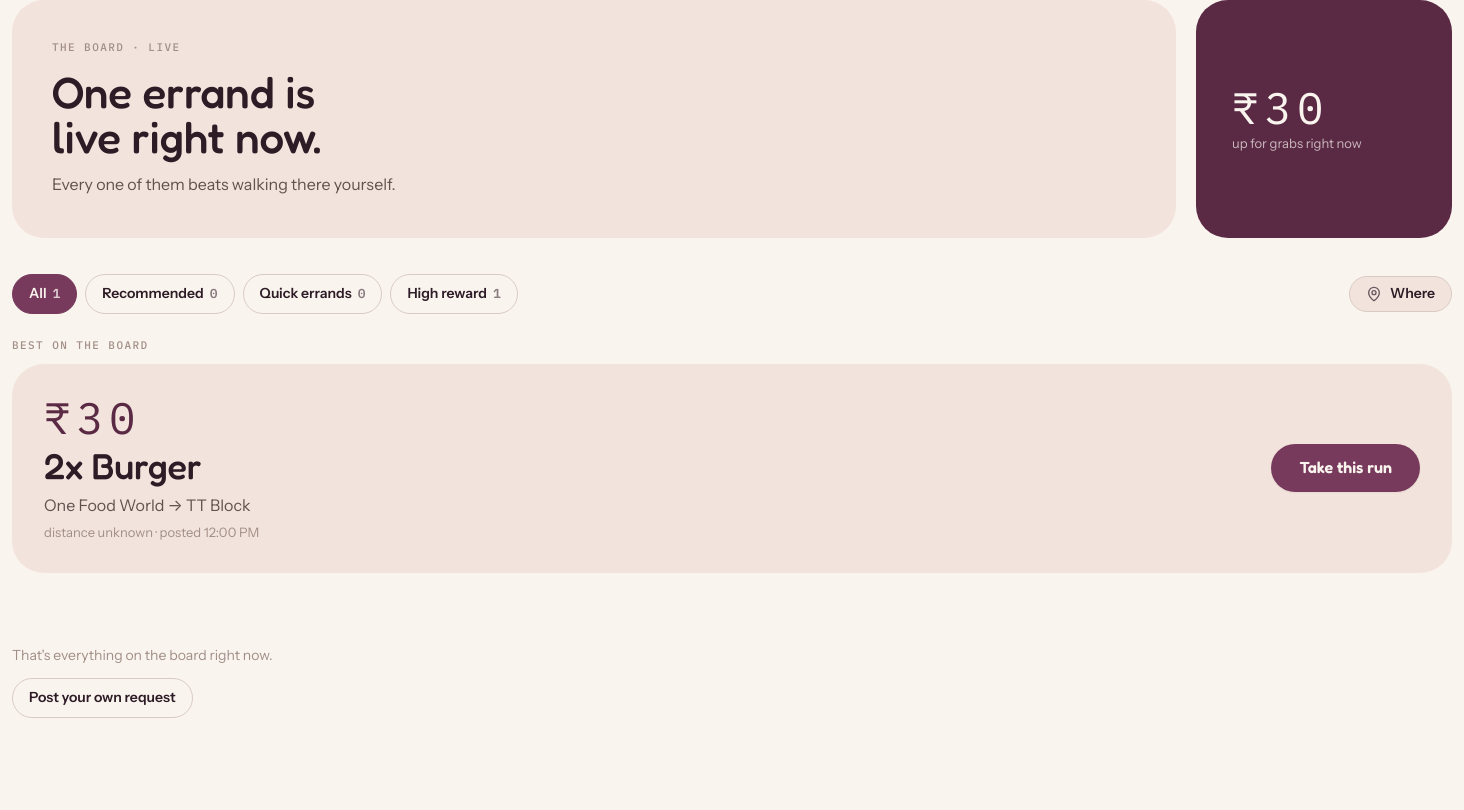
Test case: Home — 3F Recommended › shows an honest empty state when only the viewer's own orders remain
The width and height of the screenshot is (1464, 810).
Step 1. Click the button "Recommended0" → (160, 294), box 85,274 -> 235,314
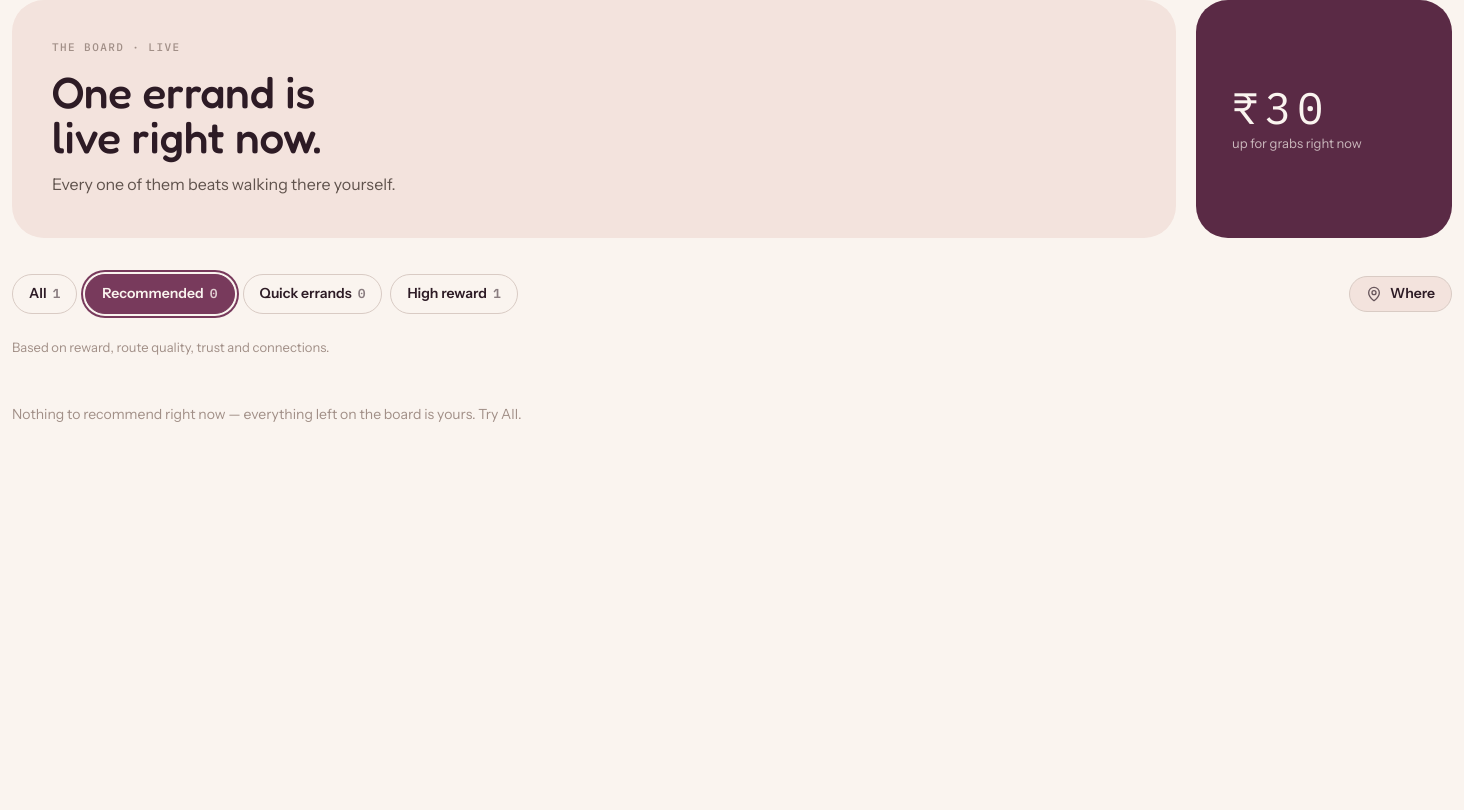
Result: the text "Nothing to recommend right now" is shown at 12,405 -> 522,423
